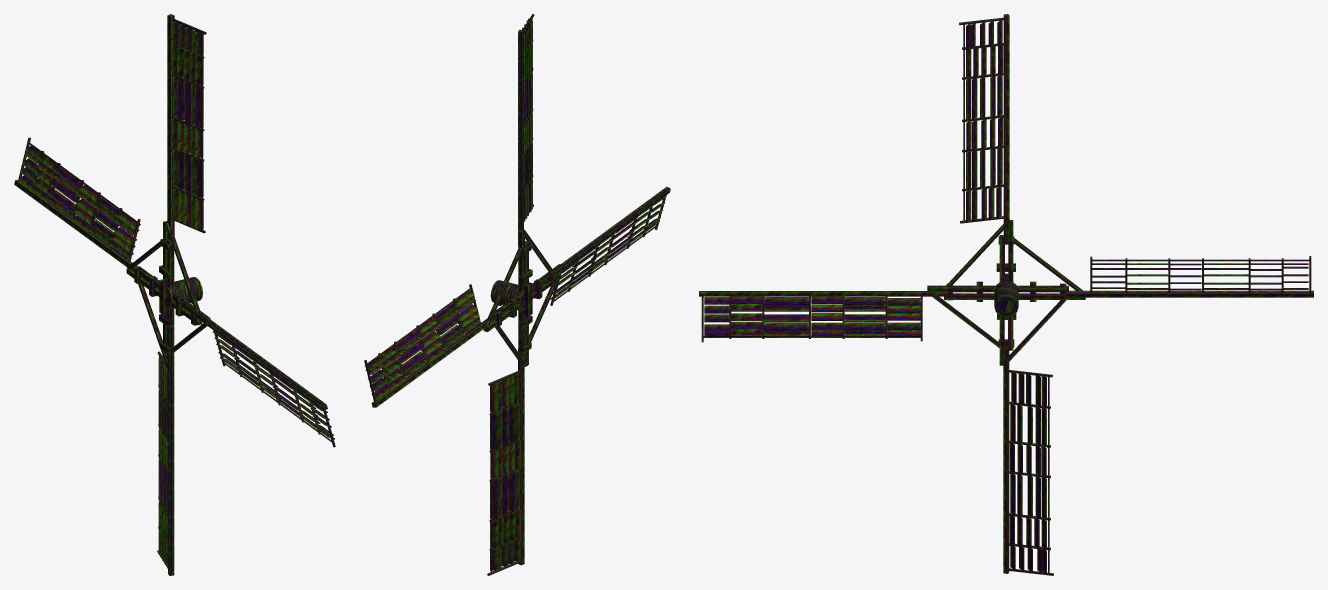
Rendered from SM_WindMill_SpinningPart.fbx.
3 renders of one model, left to right at view 1: azimuth 30°, elevation 25°; view 2: azimuth 150°, elevation 25°; view 3: azimuth 270°, elevation 25°, orthographic. The views are drawn at different scales.
Parts seen in each view (by area): view 1: SM_WindMill_SpinningPart_LOD0; view 2: SM_WindMill_SpinningPart_LOD0; view 3: SM_WindMill_SpinningPart_LOD0.
Part boxes in pixels (x1=…): SM_WindMill_SpinningPart_LOD0: x1=14, y1=14, x2=335, y2=575; SM_WindMill_SpinningPart_LOD0: x1=364, y1=14, x2=670, y2=575; SM_WindMill_SpinningPart_LOD0: x1=699, y1=14, x2=1313, y2=575.
Size of the model in its own units: 464 by 6954 by 6954.
1 material, 1 textured.
